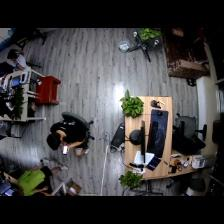normal: (14, 159, 65, 200), (47, 118, 90, 155), (6, 46, 30, 74)
